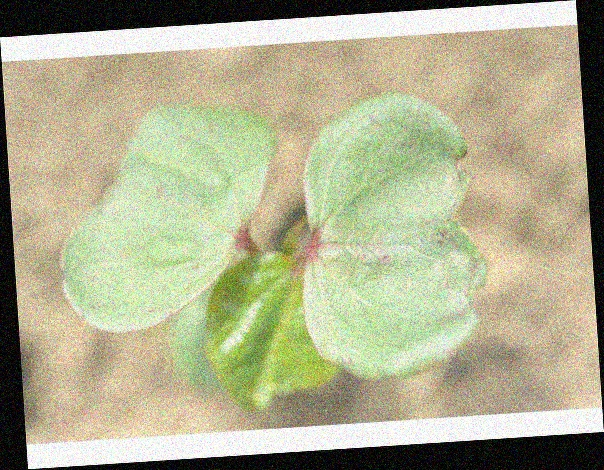cotton: (61, 96, 486, 410)
